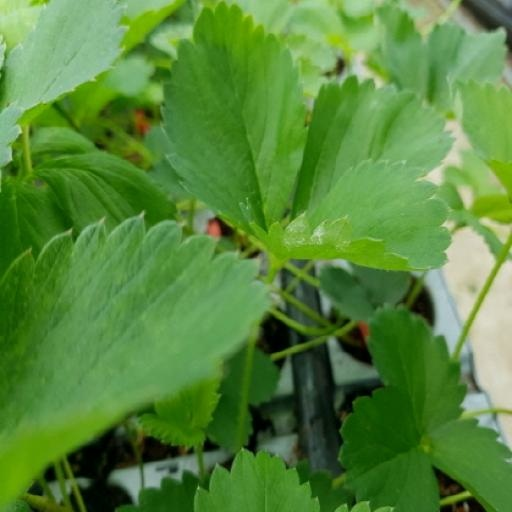Powdery Mildew Leaf: (246, 239, 454, 355)
